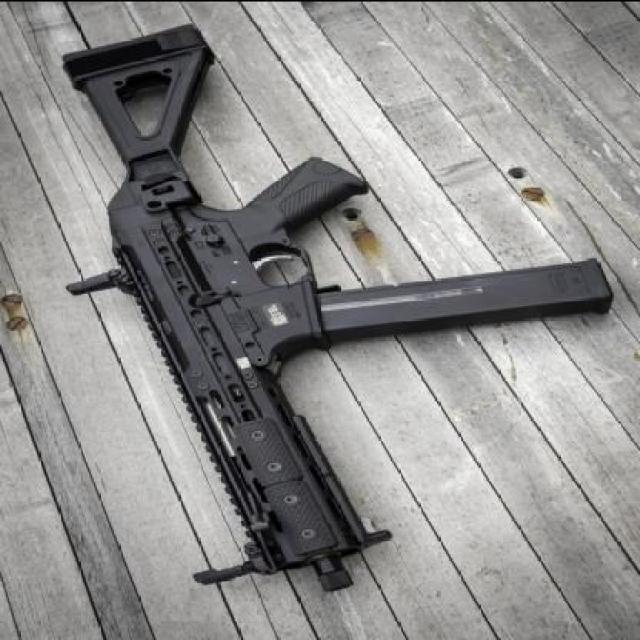weapon: (59, 22, 613, 593)
